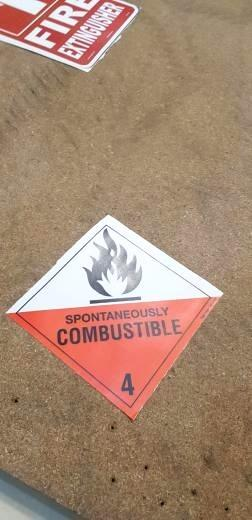spontaneously-combustible: (4, 214, 224, 422)
